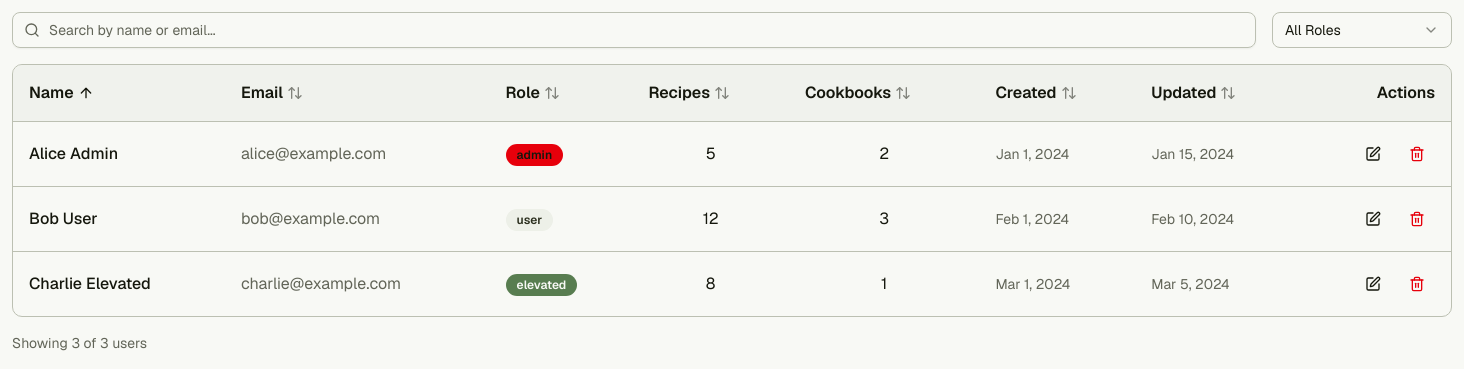
Test case: UserListClient › Search functionality › updates results count when searching
The width and height of the screenshot is (1464, 369).
Check: the text "Showing 3 of 3 users" is shown, box [12, 334, 147, 352]
Type "Alice" into the field with placeholder "Search by name or email..." at (634, 30), box [12, 12, 1256, 48]
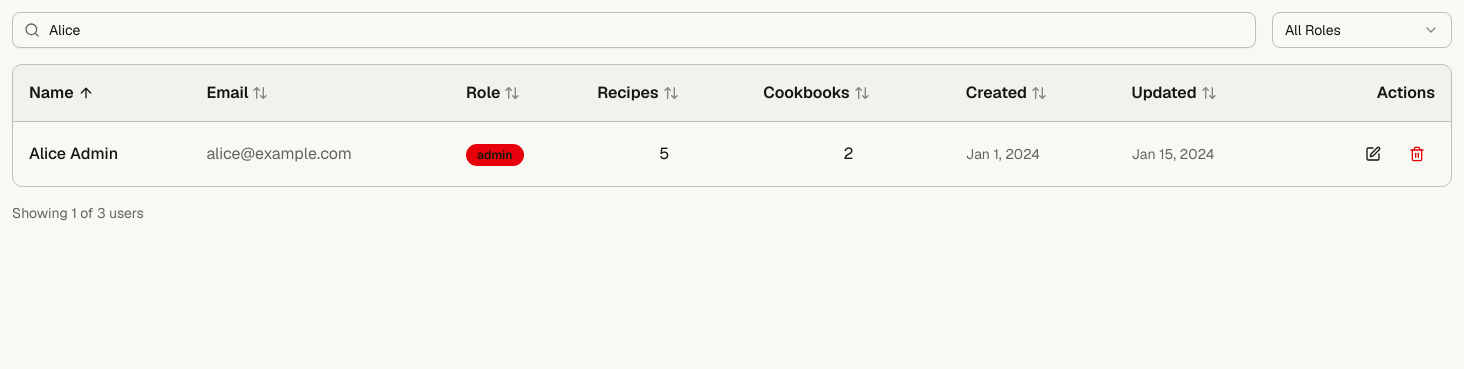
Check: the text "Showing 1 of 3 users" is shown, box [12, 204, 144, 222]
